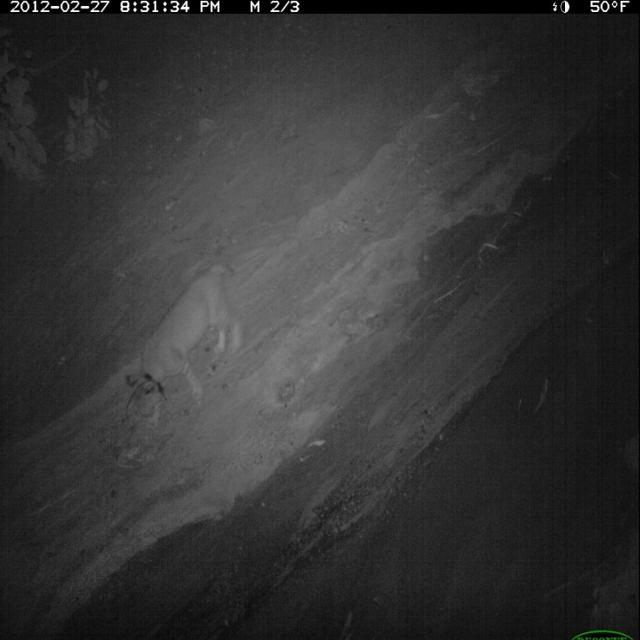bobcat: (123, 255, 247, 437)
